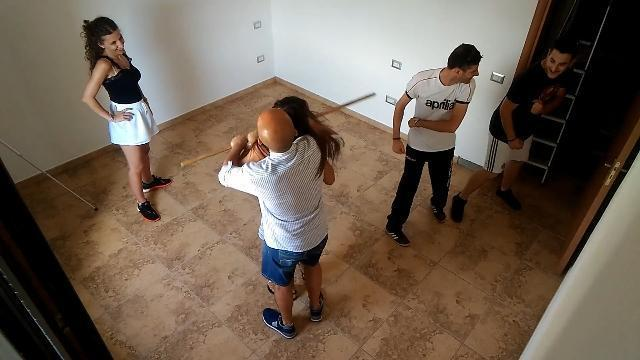non-violence: (86, 18, 172, 222)
violence: (178, 88, 378, 340), (388, 33, 578, 252)
